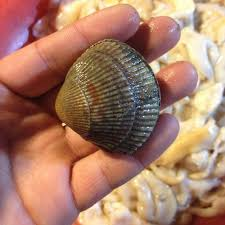cockle: (50, 39, 162, 155)
